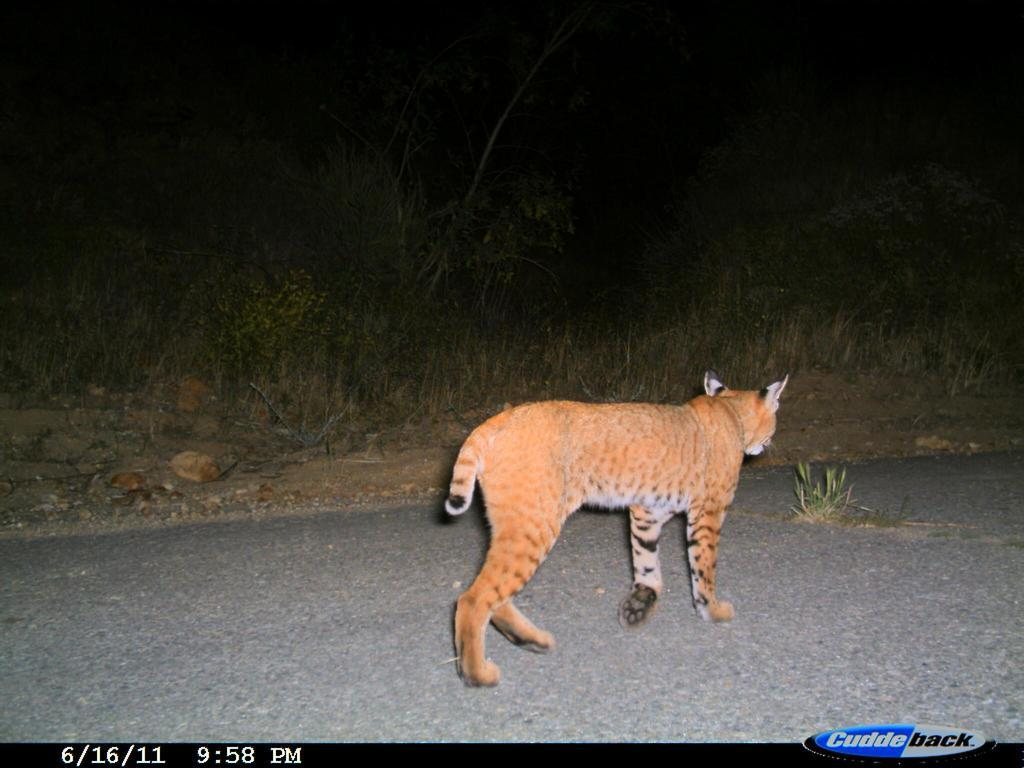bobcat: (433, 364, 794, 702)
